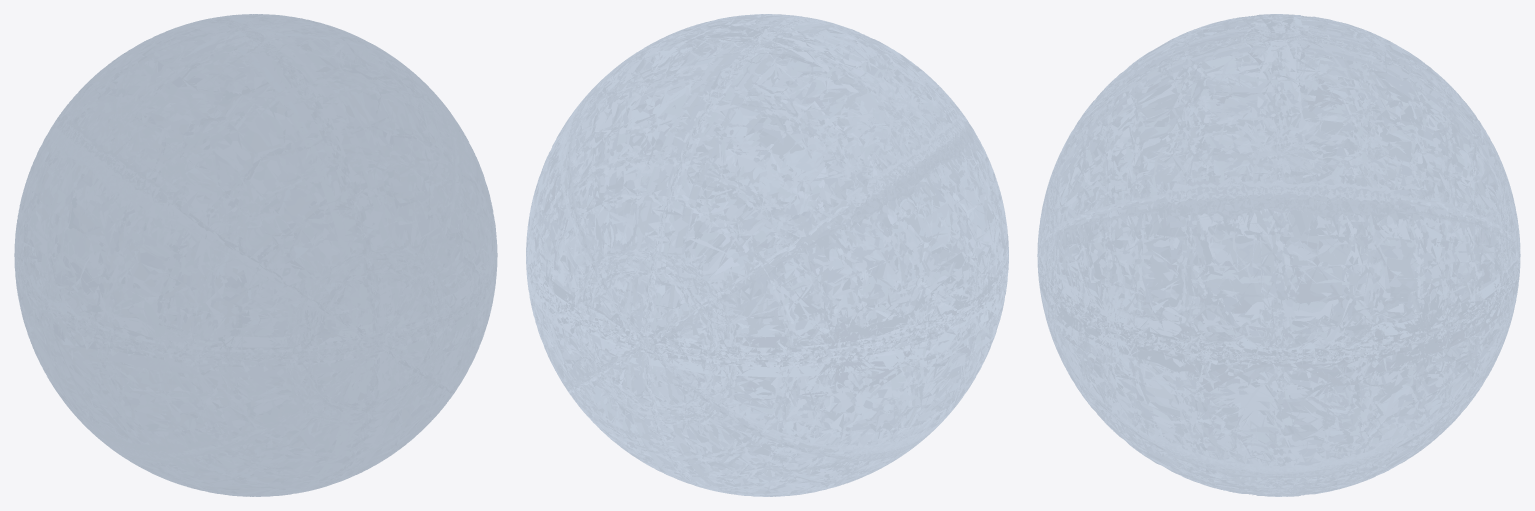
Rendered from row_5.glb.
3 renders of one model, left to right at view 1: azimuth 30°, elevation 25°; view 2: azimuth 150°, elevation 25°; view 3: azimuth 270°, elevation 25°, orthographic.
Parts seen in each view (by area): view 1: row_5; view 2: row_5; view 3: row_5.
Part boxes in pixels (left/top/right/bottom): row_5: left=14, top=14, right=497, bottom=496; row_5: left=526, top=14, right=1008, bottom=496; row_5: left=1037, top=14, right=1520, bottom=496.
Bounding box in the file's own units: 2 × 2 × 2.
